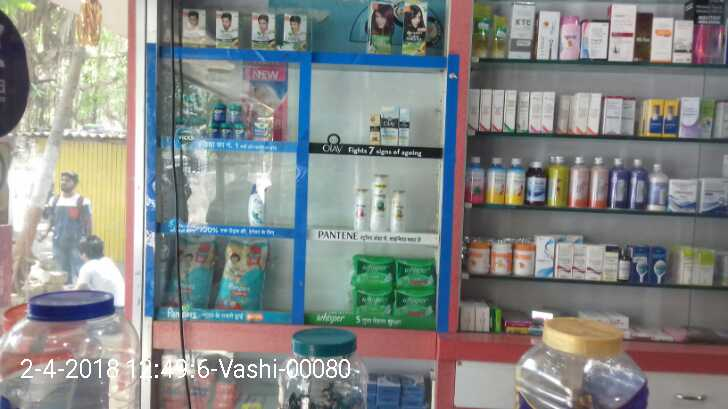vicks: (253, 115, 275, 140), (213, 102, 228, 120), (228, 103, 241, 120), (206, 123, 220, 137), (222, 123, 233, 137)
